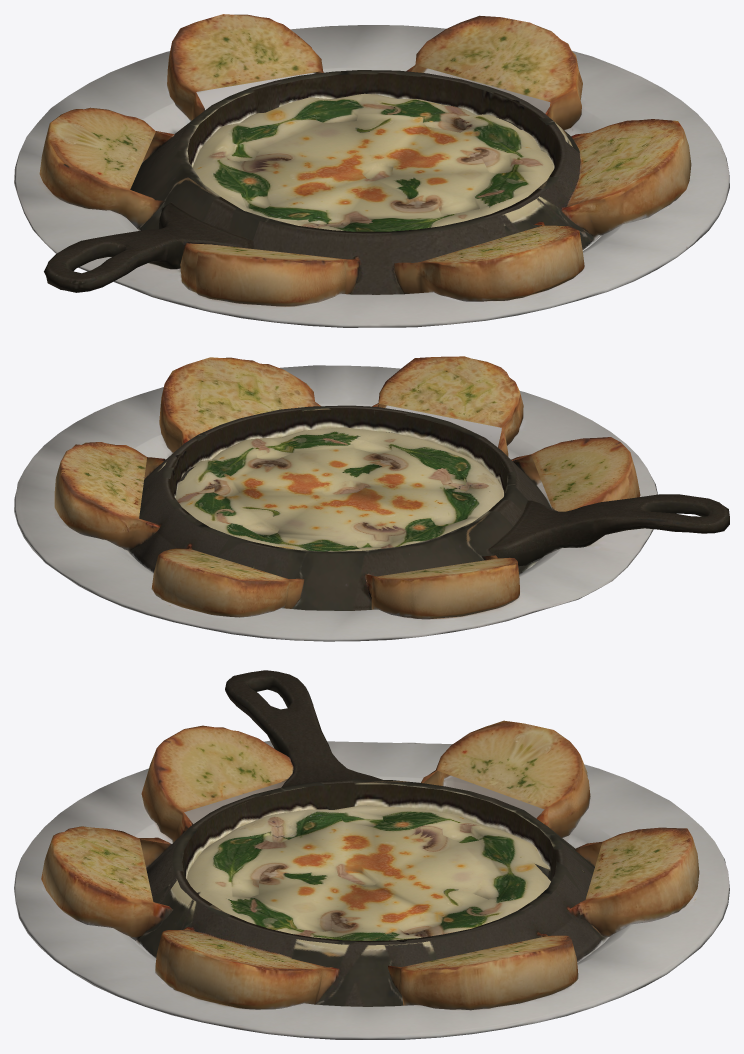
File: antipasto_formaggio.fbx
The picture shows the model from 3 angles, top to bottom: view 1: azimuth 30°, elevation 25°; view 2: azimuth 150°, elevation 25°; view 3: azimuth 270°, elevation 25°; orthographic projection. The views are drawn at different scales.
Visible parts, largest first — view 1: meshes[0]; view 2: meshes[0]; view 3: meshes[0].
Part boxes in pixels (x1,y1,x2,y2): meshes[0]: (14,14,729,327); meshes[0]: (14,356,729,641); meshes[0]: (14,670,729,1039).
Bounding box in the file's own units: 91.21 × 12.3 × 82.23.
Materials: 1 (1 with a texture image).
